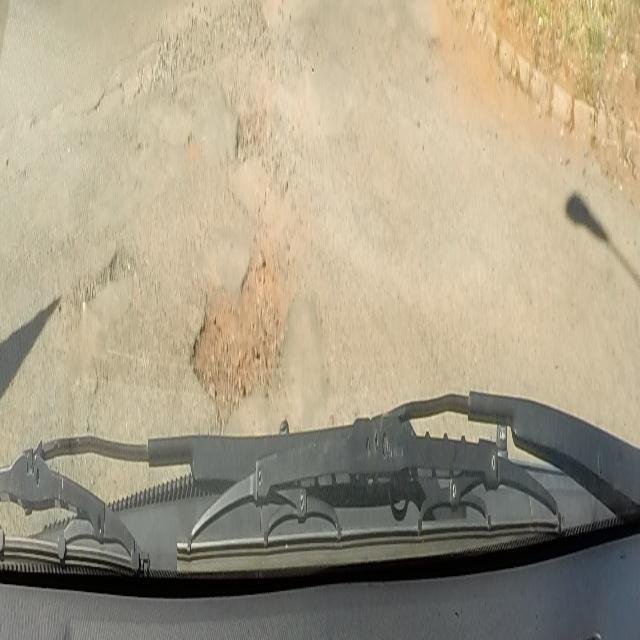pothole: (188, 258, 287, 424), (84, 245, 128, 298), (234, 101, 266, 165)
